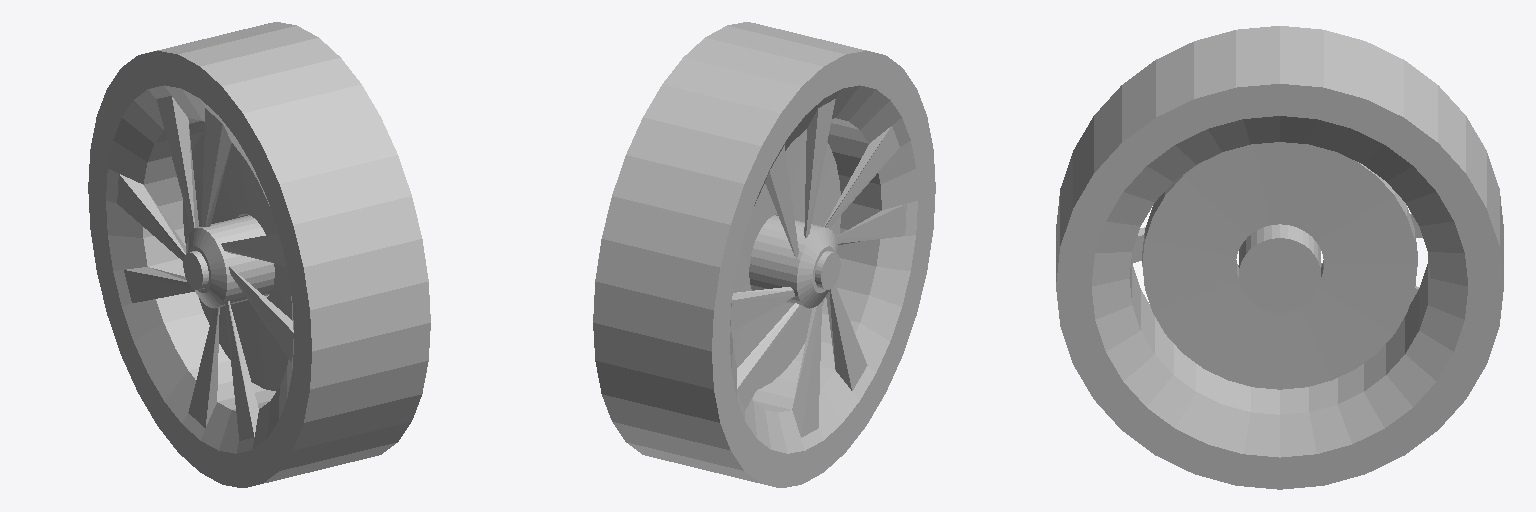
Rendered from wheel2.obj.
The picture shows the model from 3 angles: view 1: azimuth 30°, elevation 25°; view 2: azimuth 150°, elevation 25°; view 3: azimuth 270°, elevation 25°; orthographic projection.
Visible parts, largest first — view 1: Cylinder; view 2: Cylinder; view 3: Cylinder.
Boxes of the visible parts, box(x1,y1,x2,y2) form: Cylinder: box(88, 22, 430, 487); Cylinder: box(593, 22, 935, 487); Cylinder: box(1056, 26, 1503, 489).
Size of the model in its own units: 0.1378 by 0.4249 by 0.4249.